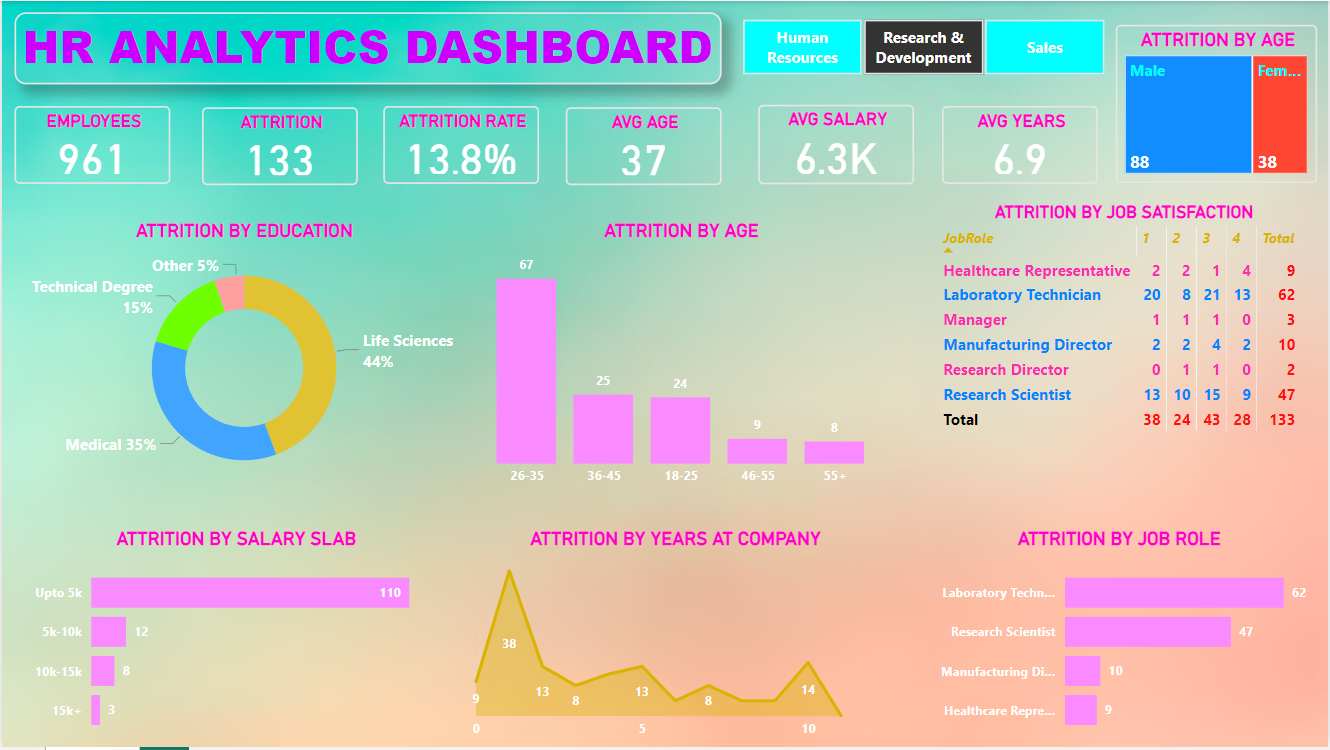

What the dashboard file says about the page in this screenshot:
{"tool":"powerbi","page":{"name":"Page 1","canvas":[1280,720],"ordinal":0},"visuals":[{"type":"card","title":"EMPLOYEES","fields":{"Values":["CountNonNull(HR_Analytics.EmpID)"]},"box":[11.7,101.6,150.3,75.1],"z":0},{"type":"card","title":"ATTRITION","fields":{"Values":["Sum(HR_Analytics.AttritionCount)"]},"box":[193,102.3,150.3,75.1],"z":1000},{"type":"card","title":"ATTRITION RATE","fields":{"Values":["HR_Analytics.AttritionRate"]},"box":[367.9,101.1,150.3,75.1],"z":2000},{"type":"card","title":"AVG AGE","fields":{"Values":["Avg(HR_Analytics.Age)"]},"box":[544.1,102.3,150.3,75.1],"z":3000},{"type":"card","title":"AVG SALARY","fields":{"Values":["Avg(HR_Analytics.MonthlyIncome)"]},"box":[729.4,99.8,150.3,76.4],"z":4000},{"type":"card","title":"AVG YEARS","fields":{"Values":["Avg(HR_Analytics.YearsAtCompany)"]},"box":[906.9,101.1,150.3,75.1],"z":5000},{"type":"donutChart","title":"ATTRITION BY EDUCATION","fields":{"Category":["HR_Analytics.EducationField"],"Y":["Sum(HR_Analytics.AttritionCount)"]},"box":[25.9,211.2,417.2,265.6],"z":6000},{"type":"columnChart","title":"ATTRITION BY AGE","fields":{"Category":["HR_Analytics.AgeGroup"],"Y":["Sum(HR_Analytics.AttritionCount)"]},"box":[443.1,211.2,426.2,265.6],"z":7000},{"type":"pivotTable","title":"ATTRITION BY JOB SATISFACTION","fields":{"Rows":["HR_Analytics.JobRole"],"Columns":["HR_Analytics.JobSatisfaction"],"Values":["Sum(HR_Analytics.AttritionCount)"]},"box":[896.5,193,373.1,301.9],"z":8000},{"type":"barChart","title":"ATTRITION BY SALARY SLAB","fields":{"Category":["HR_Analytics.SalarySlab"],"Y":["Sum(HR_Analytics.AttritionCount)"]},"box":[25.9,507.9,401.6,212.5],"z":9000},{"type":"barChart","title":"ATTRITION BY JOB ROLE","fields":{"Category":["HR_Analytics.JobRole"],"Y":["Sum(HR_Analytics.AttritionCount)"]},"box":[888.7,507.9,378.3,212.5],"z":10000},{"type":"stackedAreaChart","title":"ATTRITION BY YEARS AT COMPANY","fields":{"Category":["HR_Analytics.YearsAtCompany"],"Y":["Sum(HR_Analytics.AttritionCount)"]},"box":[443.1,507.9,414.6,212.5],"z":11000},{"type":"treemap","title":"ATTRITION BY AGE","fields":{"Group":["HR_Analytics.Gender"],"Values":["Sum(HR_Analytics.AttritionCount)"]},"box":[1075.3,23.3,194.3,152.9],"z":12000},{"type":"slicer","fields":{"Values":["HR_Analytics.Department"]},"box":[689.2,10.4,399,67.4],"z":13000},{"type":"textbox","box":[11.7,10.4,682.8,70],"z":14000}]}

Visuals, with their boxes in screenshot pixels (x1, y1, x2, y2), scaled from the page's 1280x720 canvas onto the 1330x750 screenshot:
"EMPLOYEES" card: bbox=[12, 106, 168, 184]
"ATTRITION" card: bbox=[201, 107, 357, 185]
"ATTRITION RATE" card: bbox=[382, 105, 538, 184]
"AVG AGE" card: bbox=[565, 107, 722, 185]
"AVG SALARY" card: bbox=[758, 104, 914, 184]
"AVG YEARS" card: bbox=[942, 105, 1098, 184]
"ATTRITION BY EDUCATION" donutChart: bbox=[27, 220, 460, 497]
"ATTRITION BY AGE" columnChart: bbox=[460, 220, 903, 497]
"ATTRITION BY JOB SATISFACTION" pivotTable: bbox=[932, 201, 1319, 516]
"ATTRITION BY SALARY SLAB" barChart: bbox=[27, 529, 444, 749]
"ATTRITION BY JOB ROLE" barChart: bbox=[923, 529, 1316, 749]
"ATTRITION BY YEARS AT COMPANY" stackedAreaChart: bbox=[460, 529, 891, 749]
"ATTRITION BY AGE" treemap: bbox=[1117, 24, 1319, 184]
slicer - HR_Analytics.Department: bbox=[716, 11, 1131, 81]
textbox: bbox=[12, 11, 722, 84]
